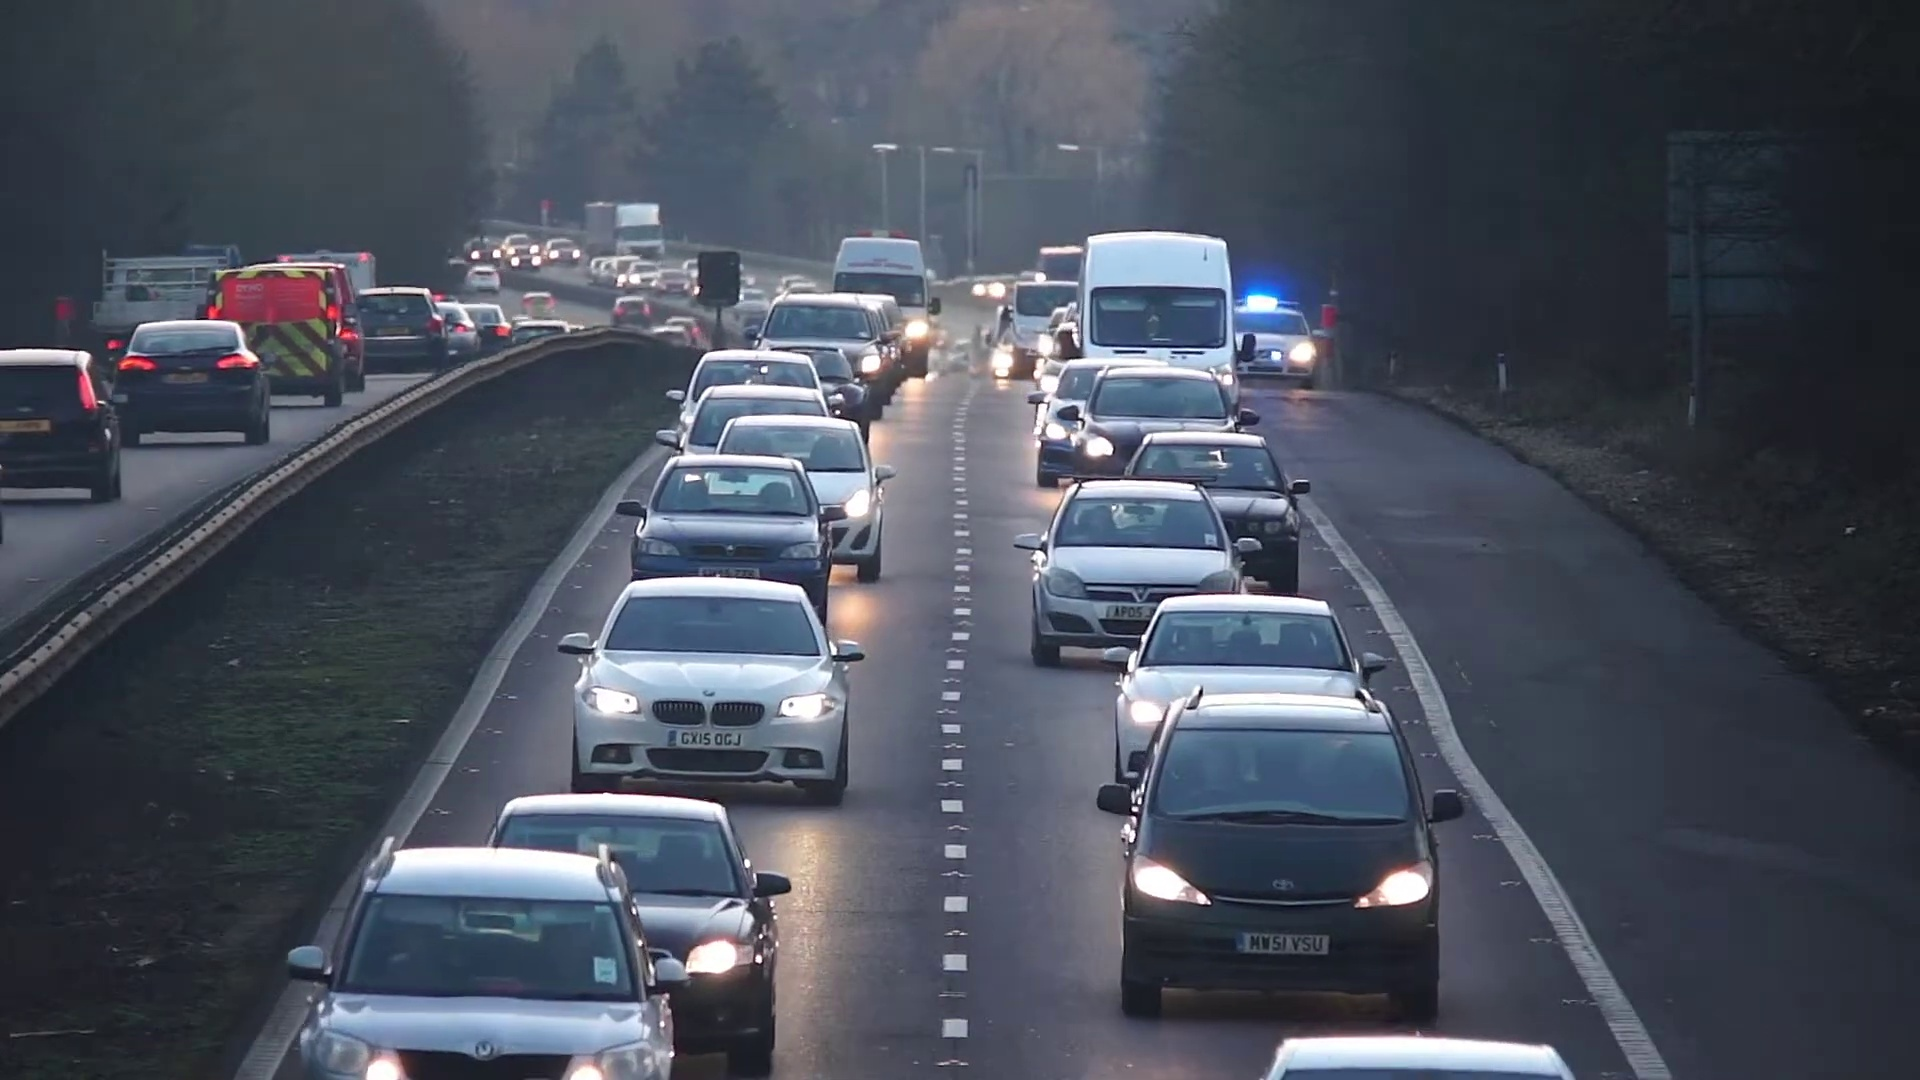license_plate: (1241, 931, 1333, 957), (672, 726, 748, 749), (1105, 601, 1156, 620)
